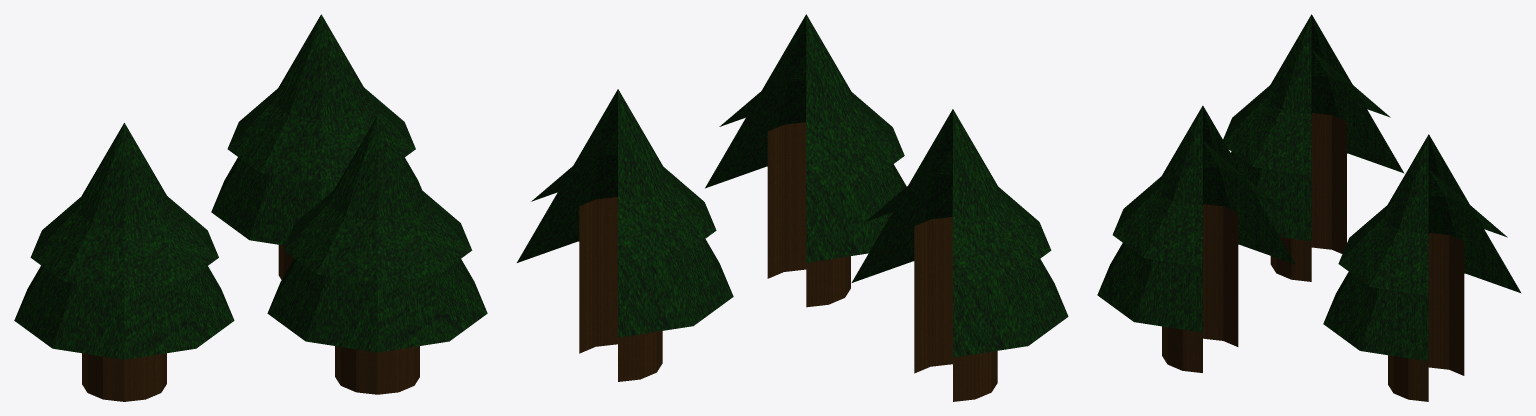
File: trees.fbx
3 renders of one model, left to right at view 1: azimuth 30°, elevation 25°; view 2: azimuth 150°, elevation 25°; view 3: azimuth 270°, elevation 25°, orthographic. The views are drawn at different scales.
Visible parts, largest first — view 1: polySurface1; view 2: polySurface1; view 3: polySurface1.
Boxes of the visible parts, x1,y1,x2,y2 form: polySurface1: [14, 14, 487, 401]; polySurface1: [517, 14, 1068, 401]; polySurface1: [1097, 14, 1521, 401].
Size of the model in its own units: 6.94 by 3.9 by 5.96.
